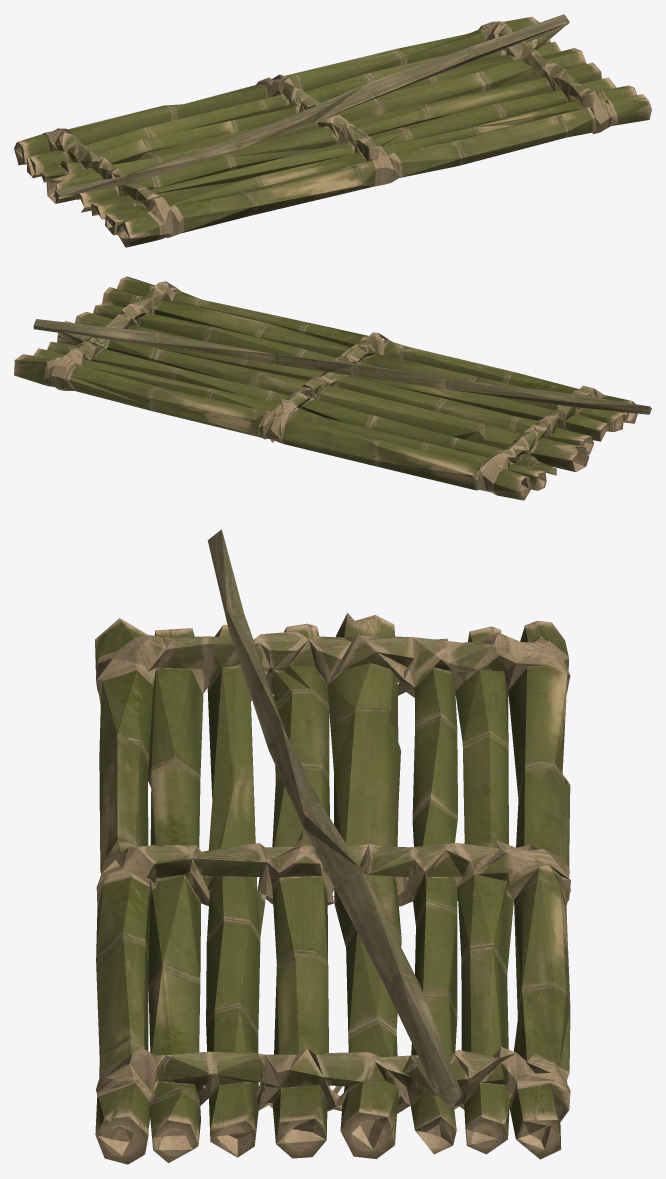
Rendered from bamboo-raft.glb.
3 views of the same model, one above another, from view 1: azimuth 30°, elevation 25°; view 2: azimuth 150°, elevation 25°; view 3: azimuth 270°, elevation 25° (orthographic). The views are drawn at different scales.
Visible parts, largest first — view 1: output_unwrapped; view 2: output_unwrapped; view 3: output_unwrapped.
Boxes of the visible parts, left/top/right/bottom form: output_unwrapped: left=14, top=14, right=651, bottom=247; output_unwrapped: left=14, top=276, right=651, bottom=500; output_unwrapped: left=95, top=529, right=570, bottom=1164.
Bounding box in the file's own units: 6 × 0.5103 × 2.21.
1 material, 1 textured.
